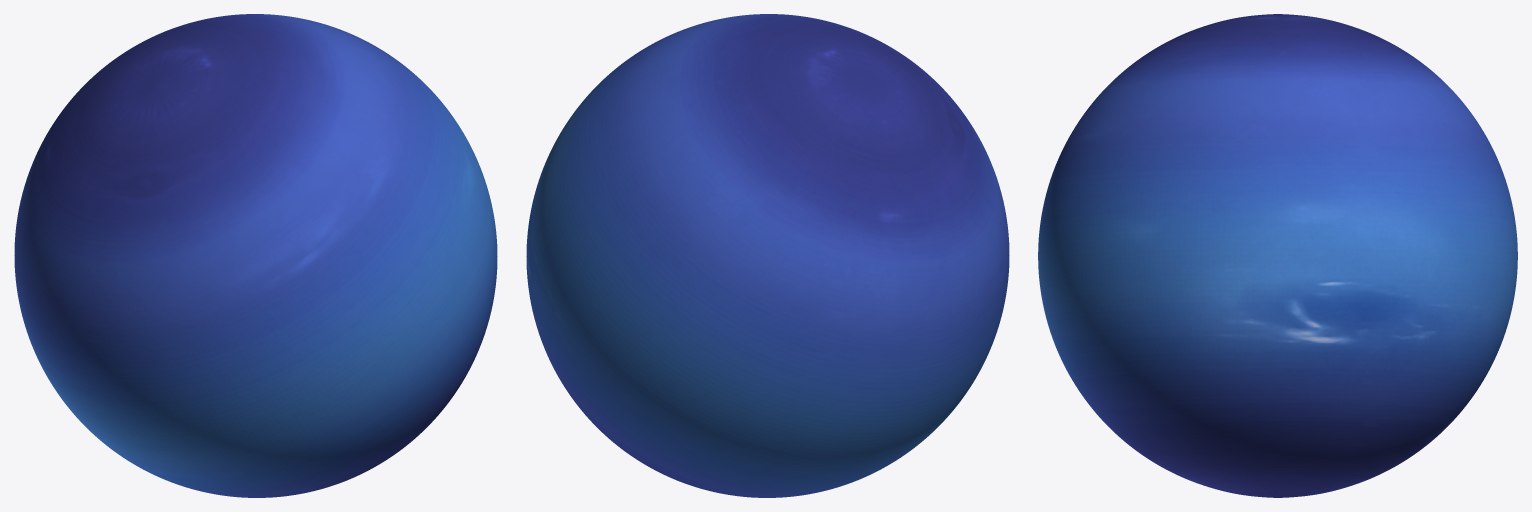
The model's file is neptuno.glb.
The picture shows the model from 3 angles, left to right: view 1: azimuth 30°, elevation 25°; view 2: azimuth 150°, elevation 25°; view 3: azimuth 270°, elevation 25°; orthographic projection.
Visible parts, largest first — view 1: 9. neptune.001; view 2: 9. neptune.001; view 3: 9. neptune.001.
Part boxes in pixels (box(x1,y1,x2,y2)): 9. neptune.001: box(14, 14, 497, 497); 9. neptune.001: box(526, 14, 1009, 497); 9. neptune.001: box(1038, 14, 1517, 497).
Size of the model in its own units: 19.77 by 19.84 by 19.74.
Materials: 1 (1 with a texture image).
